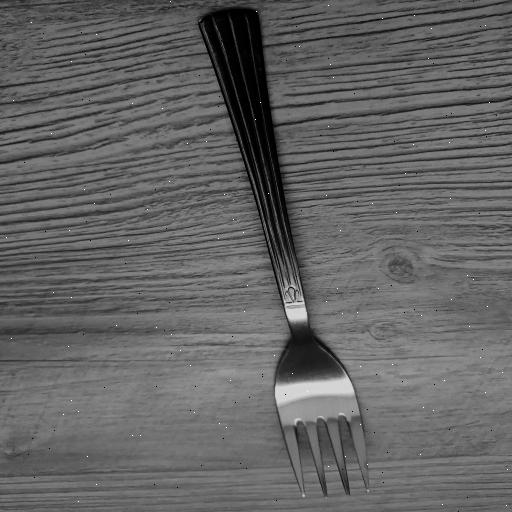fork: (197, 6, 374, 500)
